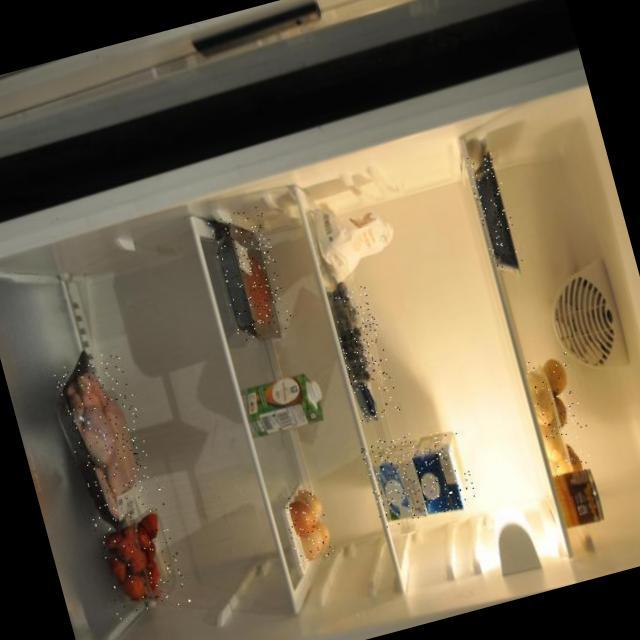Carne pollo: (50, 348, 163, 522)
Huevos: (278, 486, 334, 566)
Patata: (521, 349, 597, 479)
Tomate: (89, 498, 190, 621)
meat: (206, 206, 293, 342), (464, 151, 522, 272)
milk: (358, 430, 432, 529), (404, 427, 477, 518)
olive: (326, 285, 400, 424)
